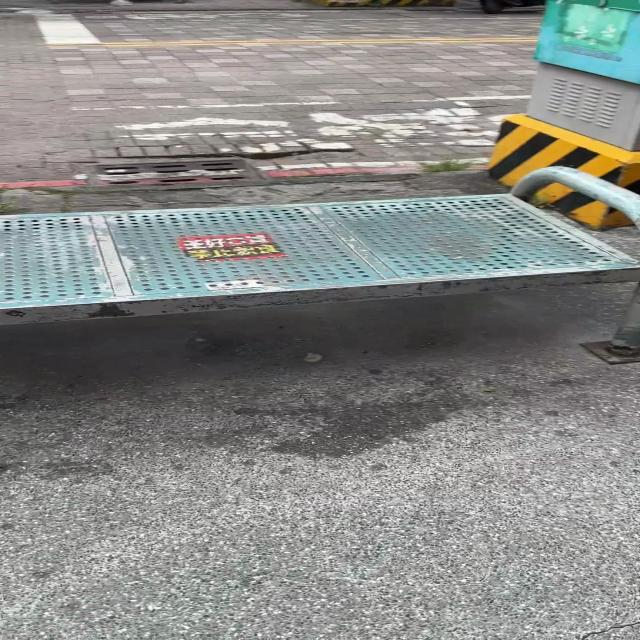chair: (0, 166, 640, 324), (585, 288, 640, 362)
